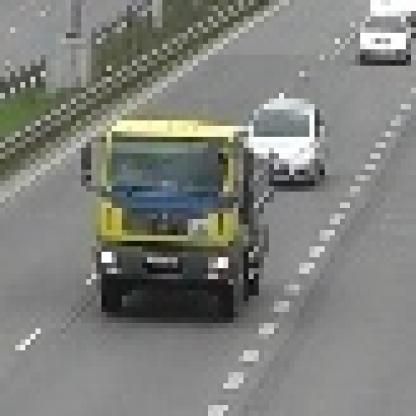truck: (77, 116, 275, 307)
